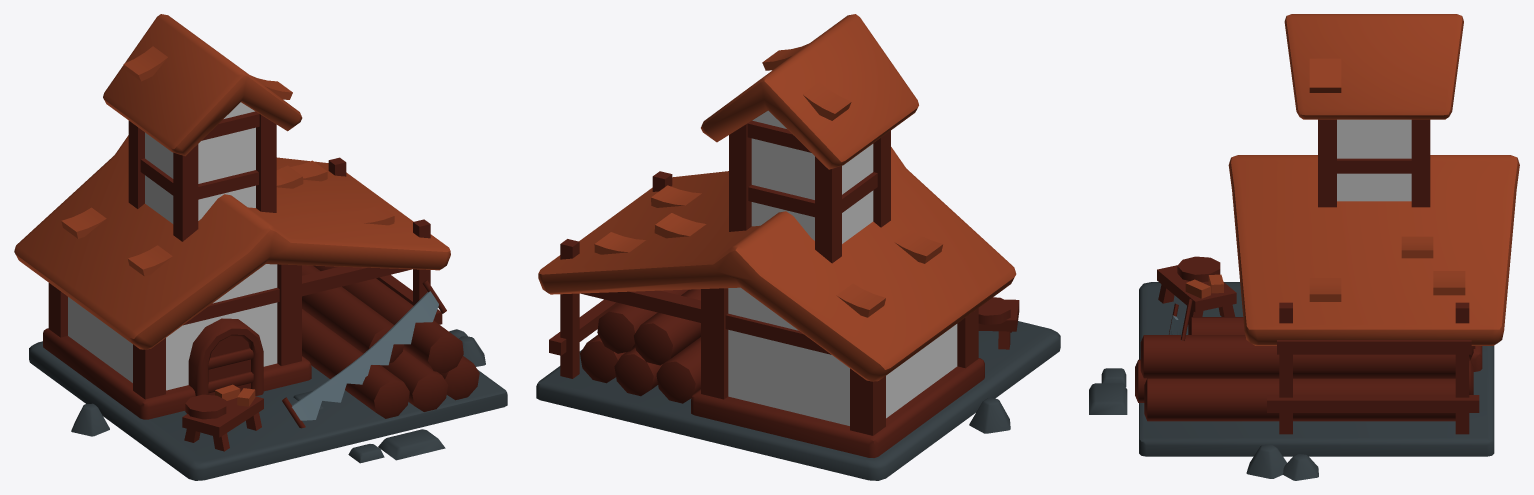
Rendered from lumbermill.obj.
The picture shows the model from 3 angles, left to right: view 1: azimuth 30°, elevation 25°; view 2: azimuth 150°, elevation 25°; view 3: azimuth 270°, elevation 25°; orthographic projection. The views are drawn at different scales.
Visible parts, largest first — view 1: lumbermill_Cube.391; view 2: lumbermill_Cube.391; view 3: lumbermill_Cube.391.
Part boxes in pixels (left/top/right/bottom): lumbermill_Cube.391: left=14, top=14, right=507, bottom=480; lumbermill_Cube.391: left=536, top=14, right=1060, bottom=480; lumbermill_Cube.391: left=1089, top=14, right=1519, bottom=480.
Size of the model in its own units: 1.82 by 1.47 by 1.66.
